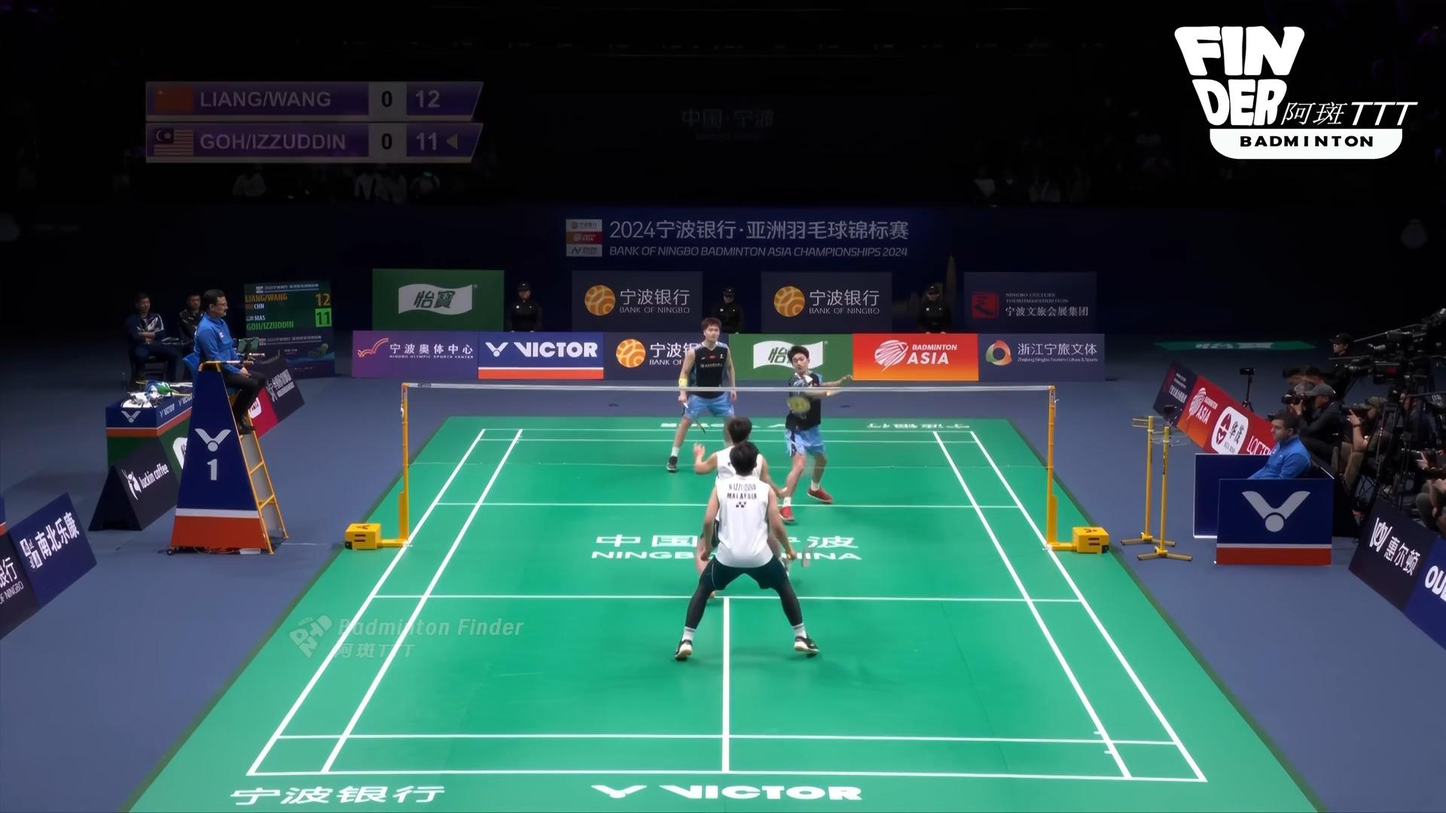shuttlecock: (802, 375, 814, 384)
